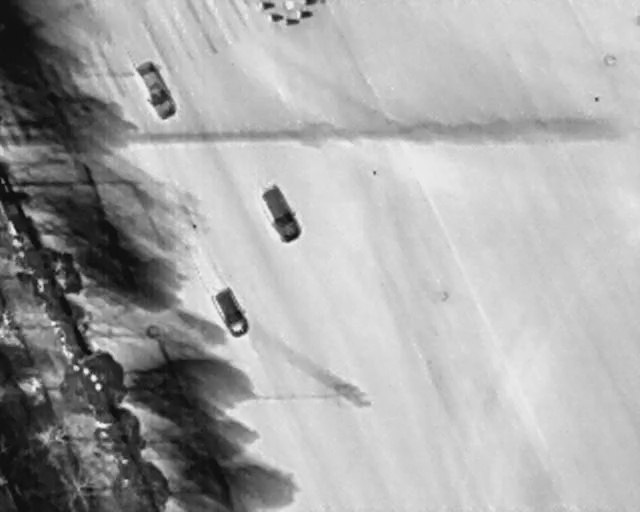Car: (129, 57, 182, 124), (255, 183, 305, 247), (209, 283, 255, 342)
